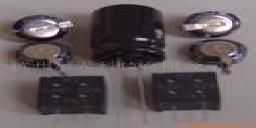Electrolytic-Capacitor: (86, 9, 162, 127), (13, 41, 84, 72), (181, 10, 243, 39), (189, 39, 243, 70), (12, 14, 76, 40)
